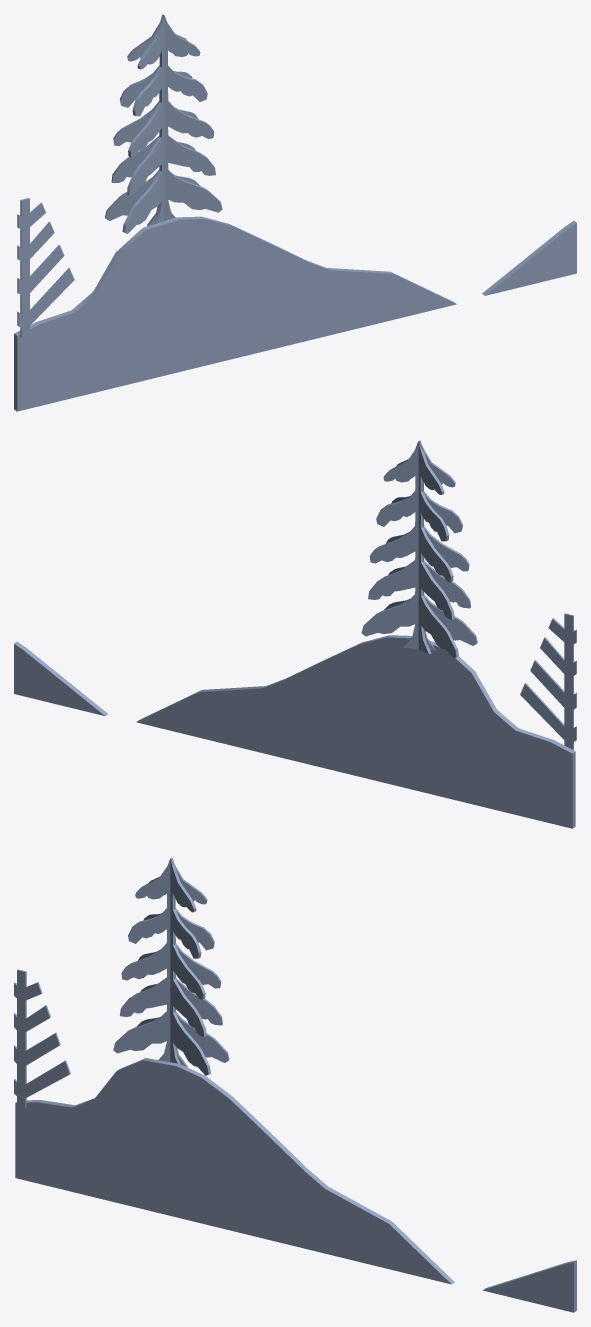
The model's file is frame_0119.glb.
3 views of the same model, one above another, from view 1: azimuth 30°, elevation 25°; view 2: azimuth 150°, elevation 25°; view 3: azimuth 330°, elevation 25° (orthographic).
Visible parts, largest first — view 1: export_trees_001.002; view 2: export_trees_001.002; view 3: export_trees_001.002.
Boxes of the visible parts, x1,y1,x2,y2 form: export_trees_001.002: (14,14,576,411); export_trees_001.002: (14,440,576,828); export_trees_001.002: (14,857,576,1312).
Size of the model in its own units: 0.4327 by 0.2619 by 0.0288.
